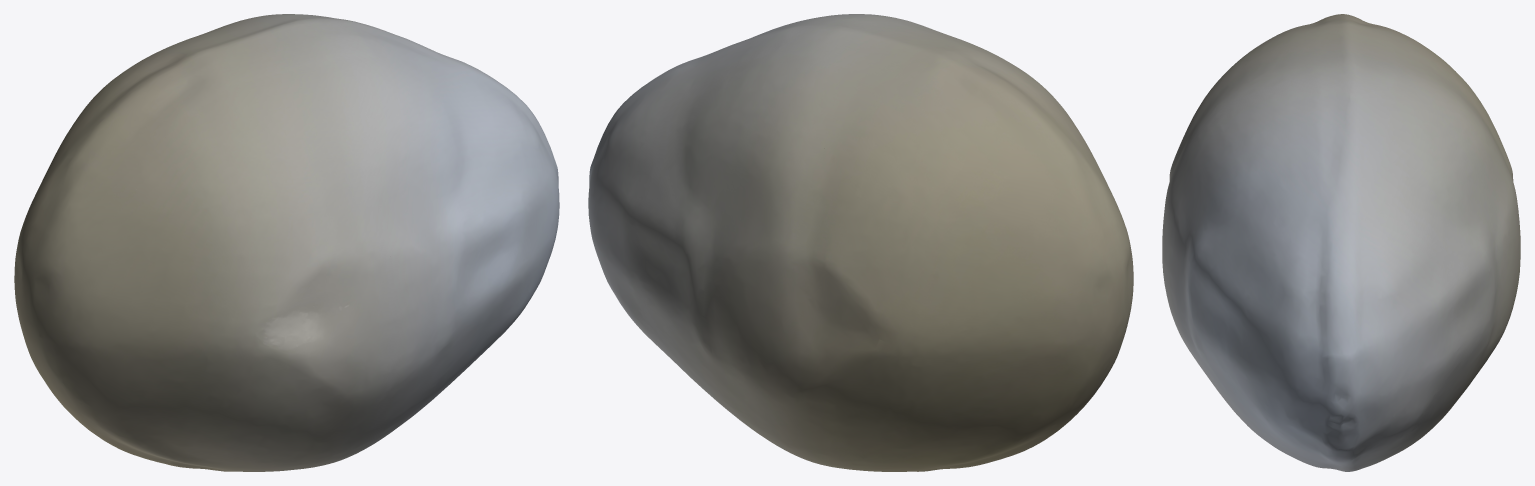
Rendered from HuevoHervido.glb.
3 renders of one model, left to right at view 1: azimuth 30°, elevation 25°; view 2: azimuth 150°, elevation 25°; view 3: azimuth 270°, elevation 25°, orthographic. The views are drawn at different scales.
Parts seen in each view (by area): view 1: tripo_node_80923ac1-0089-4d1f-870f-2b3634a55f84; view 2: tripo_node_80923ac1-0089-4d1f-870f-2b3634a55f84; view 3: tripo_node_80923ac1-0089-4d1f-870f-2b3634a55f84.
Boxes of the visible parts, x1,y1,x2,y2 form: tripo_node_80923ac1-0089-4d1f-870f-2b3634a55f84: (14, 14, 559, 471); tripo_node_80923ac1-0089-4d1f-870f-2b3634a55f84: (588, 14, 1133, 471); tripo_node_80923ac1-0089-4d1f-870f-2b3634a55f84: (1162, 14, 1520, 471).
Size of the model in its own units: 1 by 0.7758 by 0.6396.
Materials: 1 (1 with a texture image).
